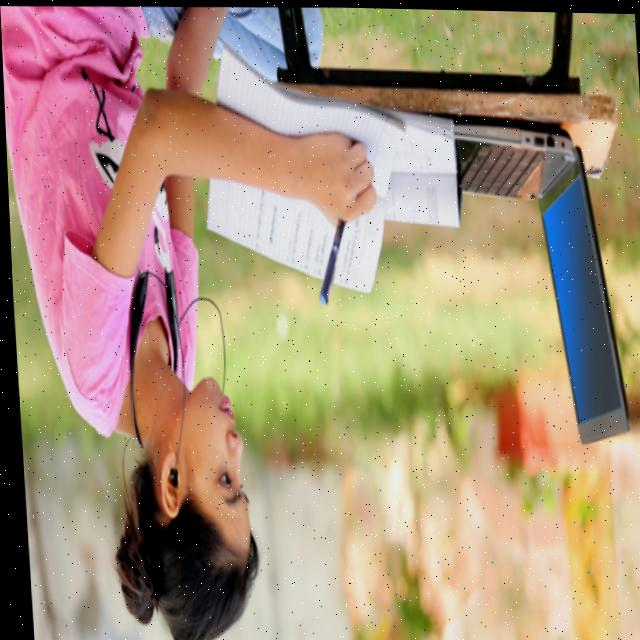studying-person: (0, 0, 480, 640)
